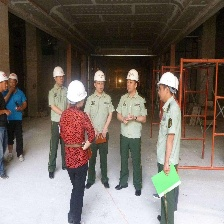helmet: (68, 79, 88, 103), (157, 72, 181, 90), (125, 68, 142, 82), (52, 66, 65, 79), (93, 72, 108, 82)
no-vest: (61, 105, 89, 164), (157, 100, 182, 160), (120, 90, 144, 135), (89, 91, 113, 133), (51, 86, 67, 124)
person: (153, 69, 184, 224), (61, 78, 92, 224), (115, 66, 146, 196), (92, 69, 115, 195), (49, 66, 68, 177)
